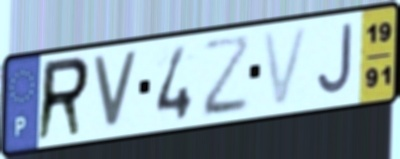4: (154, 41, 196, 123)
J: (315, 20, 355, 99)
R: (34, 53, 93, 146)
V: (259, 23, 313, 111), (89, 49, 141, 132)
Z: (200, 31, 253, 121)
